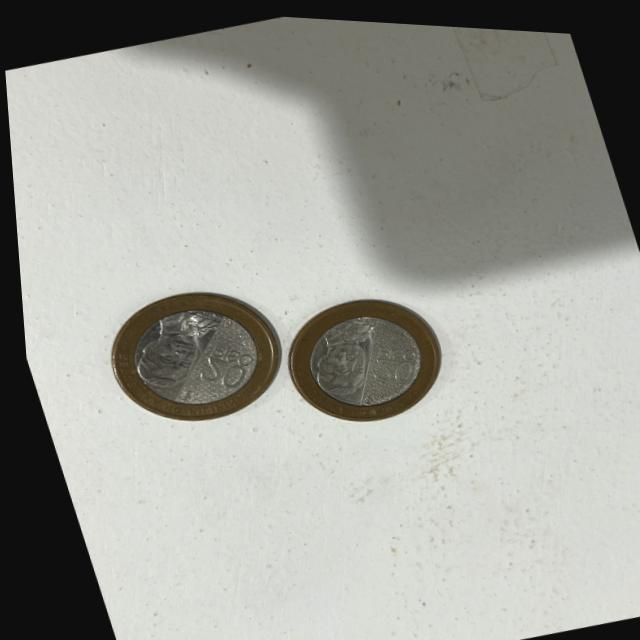20_New_Front: (185, 333, 256, 395), (356, 328, 420, 389)
